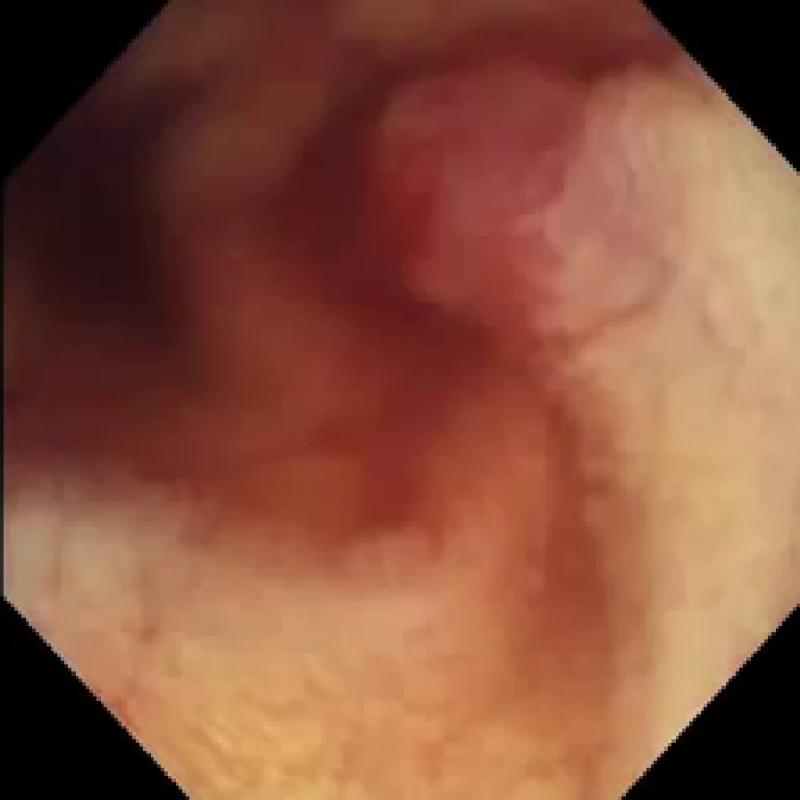bleeding: (0, 7, 711, 739)
